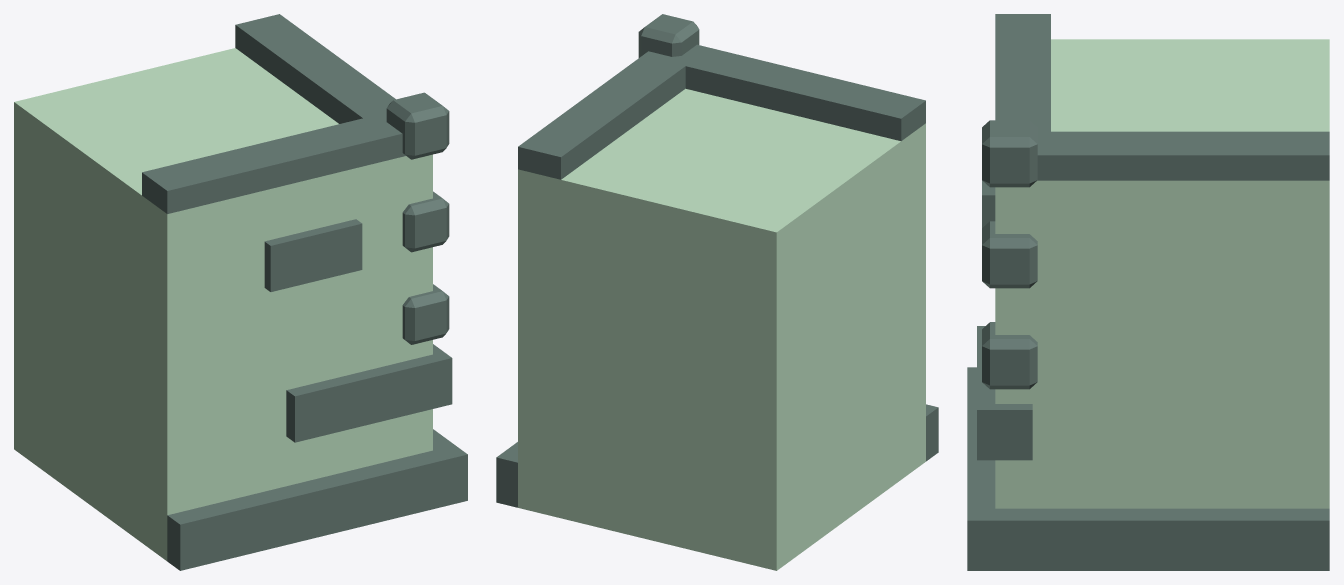
The model's file is GroundConcave2.fbx.
3 views of the same model, side by side, from view 1: azimuth 30°, elevation 25°; view 2: azimuth 150°, elevation 25°; view 3: azimuth 270°, elevation 25° (orthographic). The views are drawn at different scales.
Parts seen in each view (by area): view 1: GroundConcave2; view 2: GroundConcave2; view 3: GroundConcave2.
Boxes of the visible parts, bbox=[...] form: GroundConcave2: bbox=[14, 14, 467, 570]; GroundConcave2: bbox=[496, 14, 938, 570]; GroundConcave2: bbox=[967, 14, 1329, 570].
Bounding box in the file's own units: 1.3 × 1.69 × 1.3.
